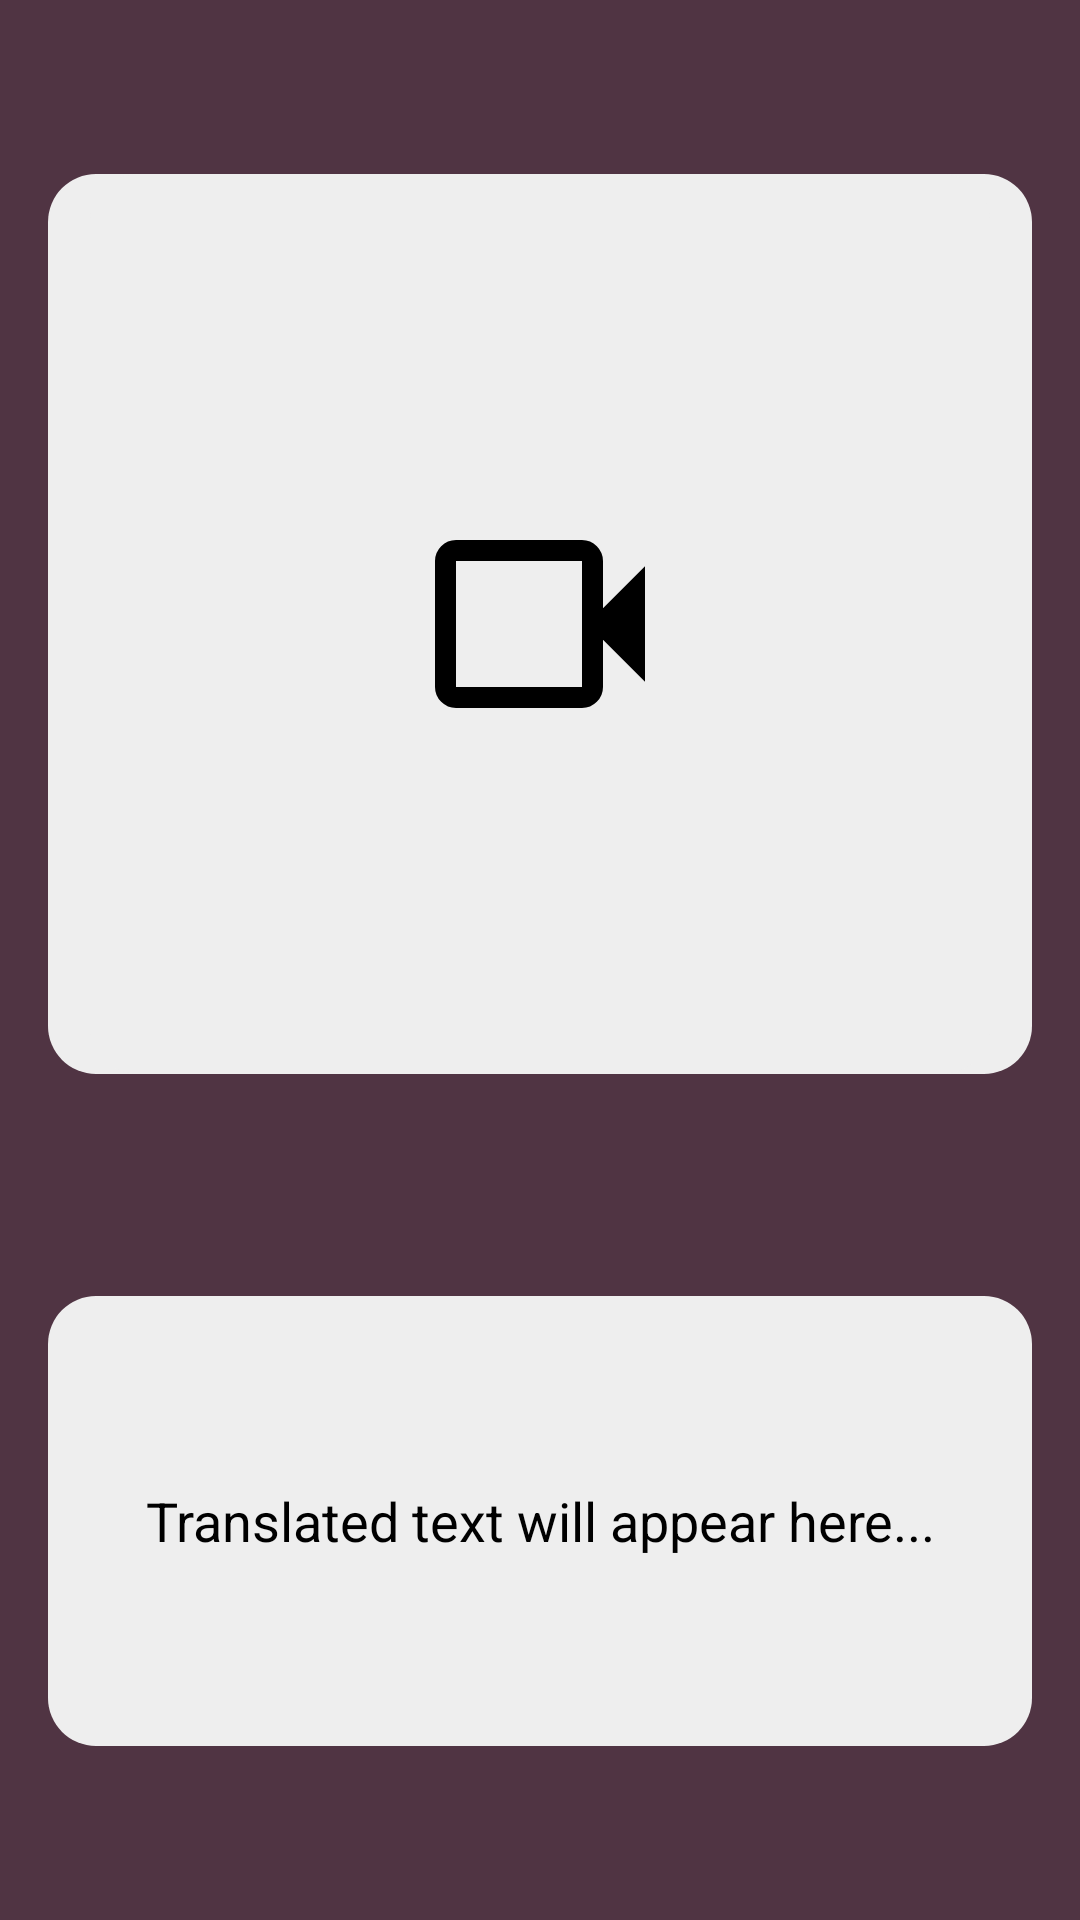

Icon bounding boxes for this 1080x1920 phone screenshot, format (x1, y1, x2, y2):
Launch Camera: (435, 540, 645, 708)
